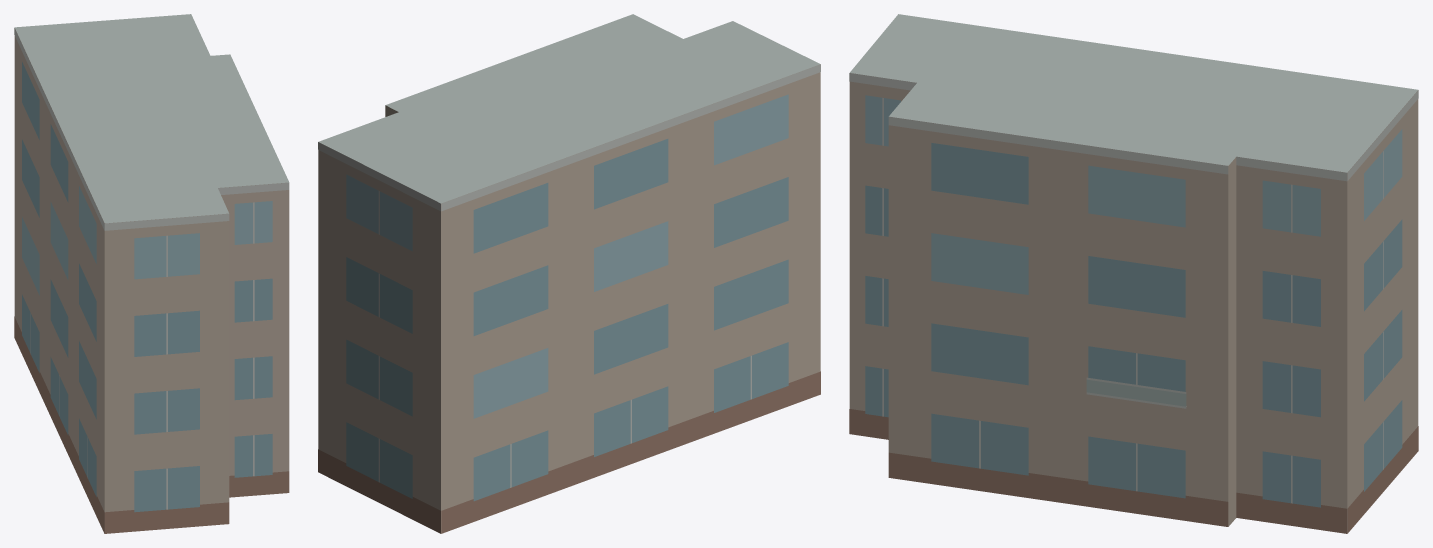
File: survey-upis-32495140.glb
The picture shows the model from 3 angles, left to right: view 1: azimuth 30°, elevation 25°; view 2: azimuth 150°, elevation 25°; view 3: azimuth 270°, elevation 25°; orthographic projection. The views are drawn at different scales.
Visible parts, largest first — view 1: survey-upis-32495140.tmp; view 2: survey-upis-32495140.tmp; view 3: survey-upis-32495140.tmp.
Boxes of the visible parts, x1,y1,x2,y2 form: survey-upis-32495140.tmp: [14, 14, 289, 533]; survey-upis-32495140.tmp: [318, 14, 820, 533]; survey-upis-32495140.tmp: [849, 14, 1418, 533].
Size of the model in its own units: 9.62 by 10.2 by 14.58.
